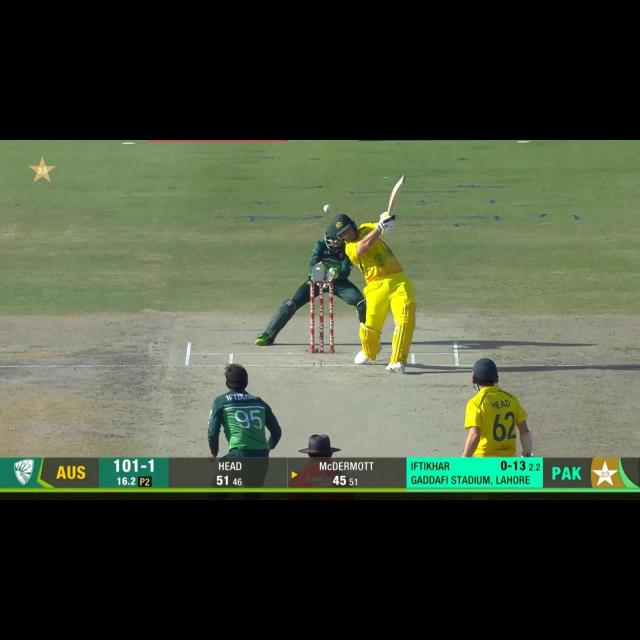bat: (385, 177, 406, 218)
toe: (396, 176, 408, 188)
